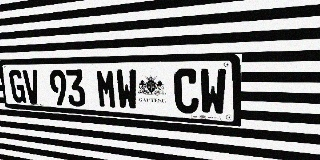3: (65, 69, 86, 107)
9: (49, 69, 69, 106)
C: (173, 69, 199, 114)
G: (8, 70, 26, 103)
M: (95, 69, 117, 109)
V: (22, 70, 41, 104)
W: (199, 68, 227, 116), (115, 69, 138, 110)
